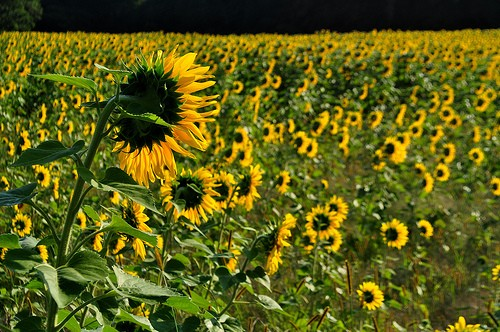flower: (107, 42, 220, 187), (158, 165, 223, 227), (262, 213, 300, 276), (305, 203, 343, 245), (240, 162, 266, 214), (352, 278, 384, 313), (379, 219, 412, 252)
